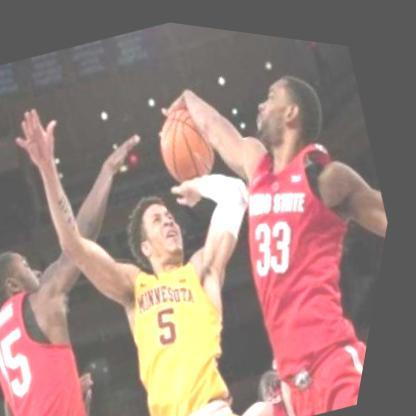basketball: (137, 81, 245, 197)
